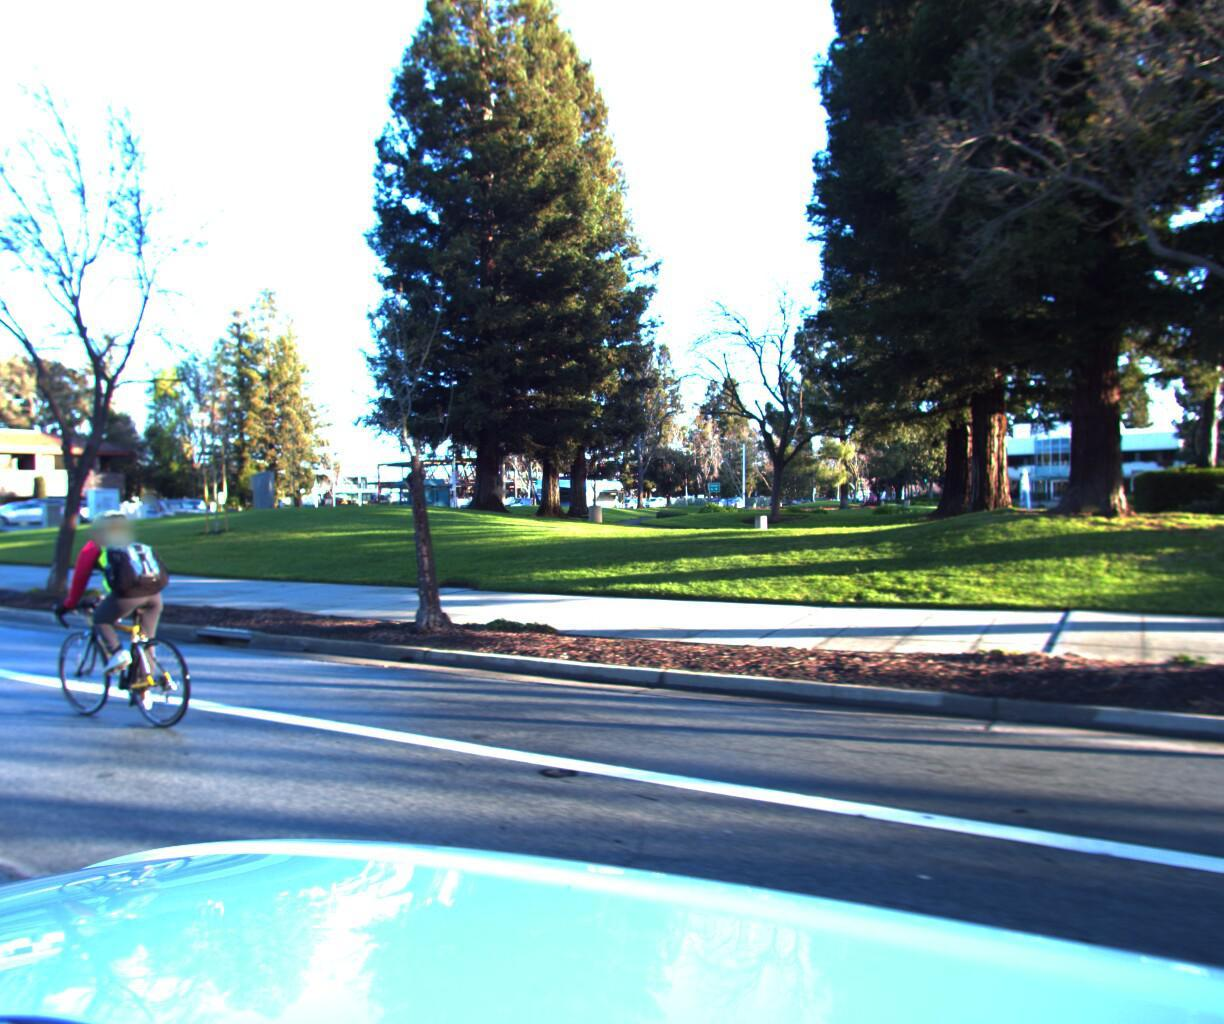bicycle: (0, 489, 224, 754)
car: (143, 499, 228, 530), (0, 498, 67, 528)
